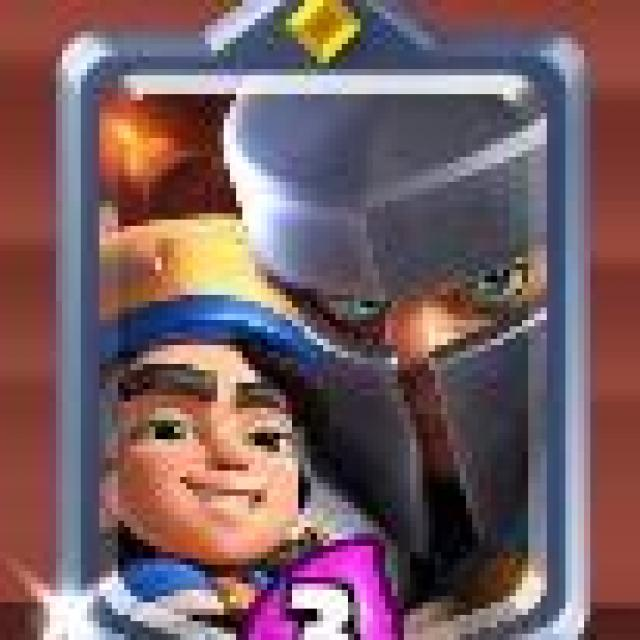Little_Prince: (61, 34, 586, 640)
